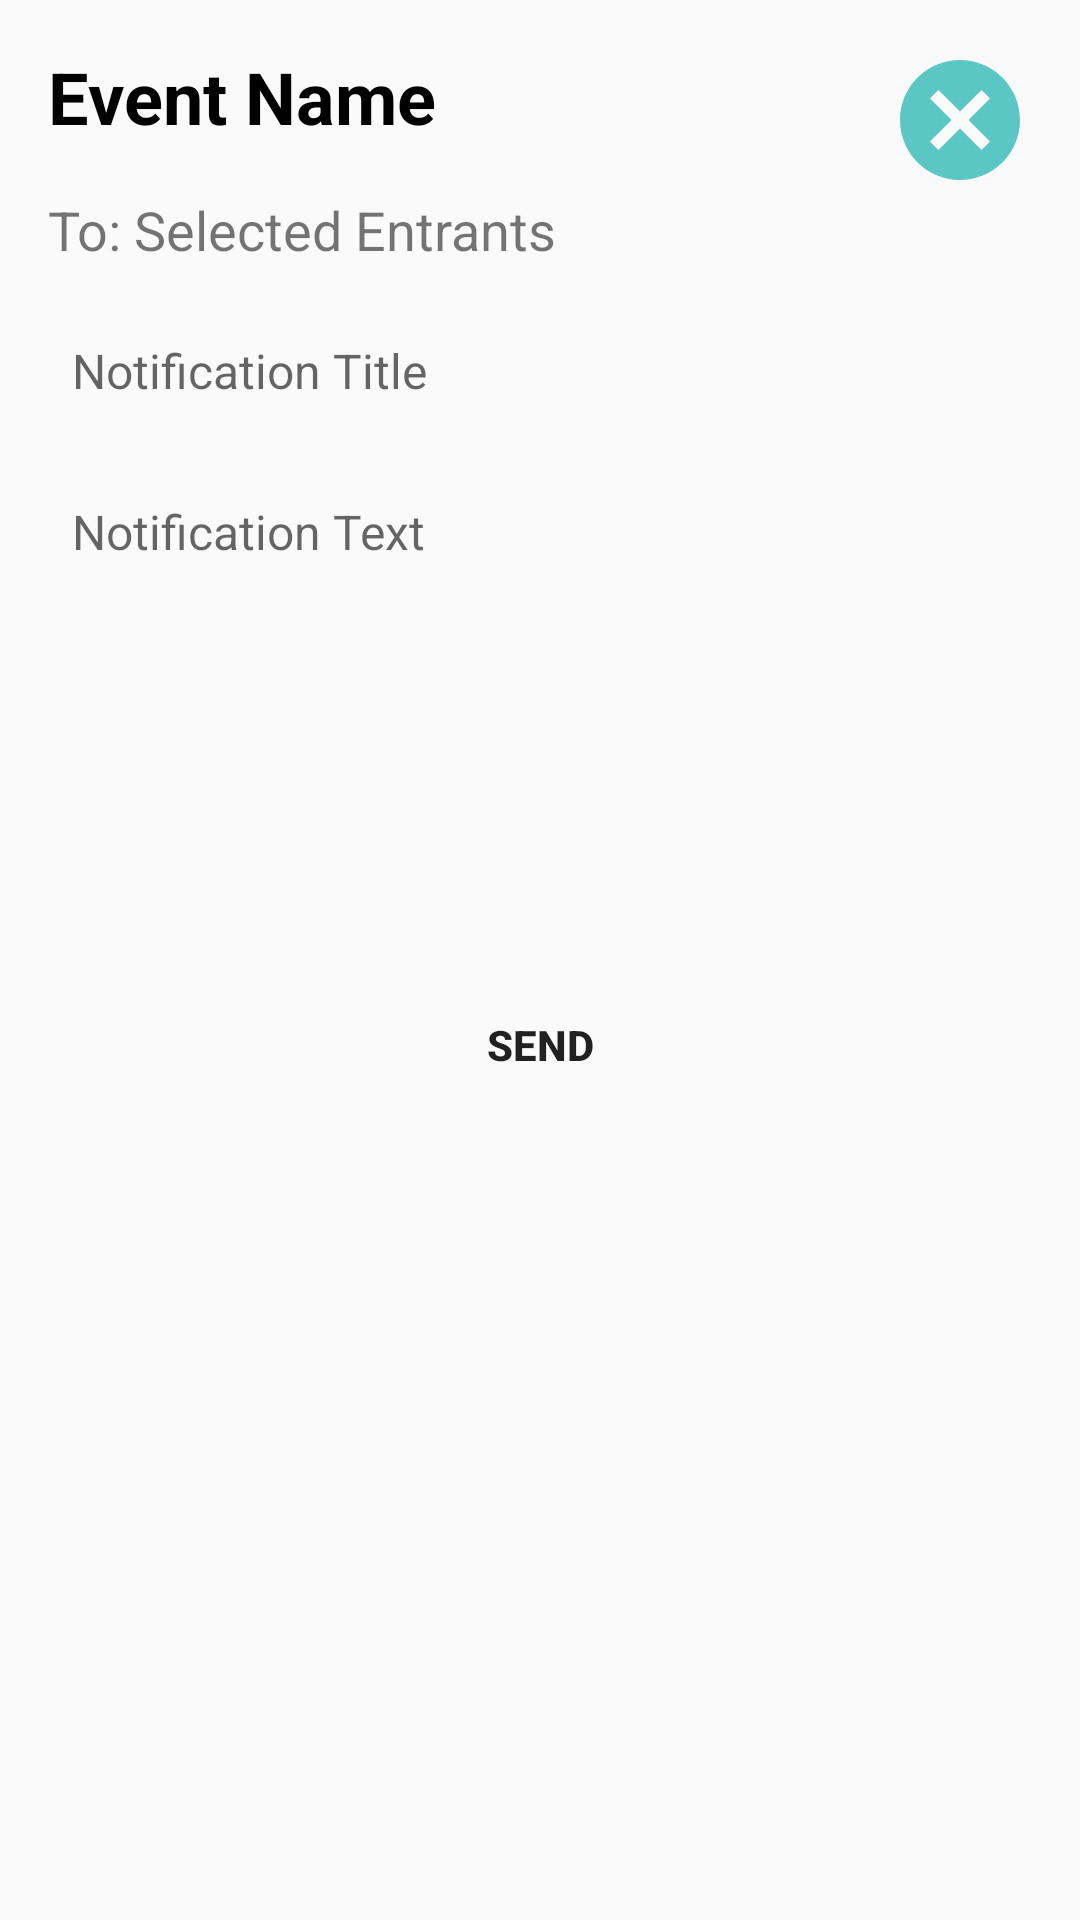

Screen size 1080 x 1920. Icon name, then its center in pixels as (x=x, y=y):
cancel: (x=960, y=120)
